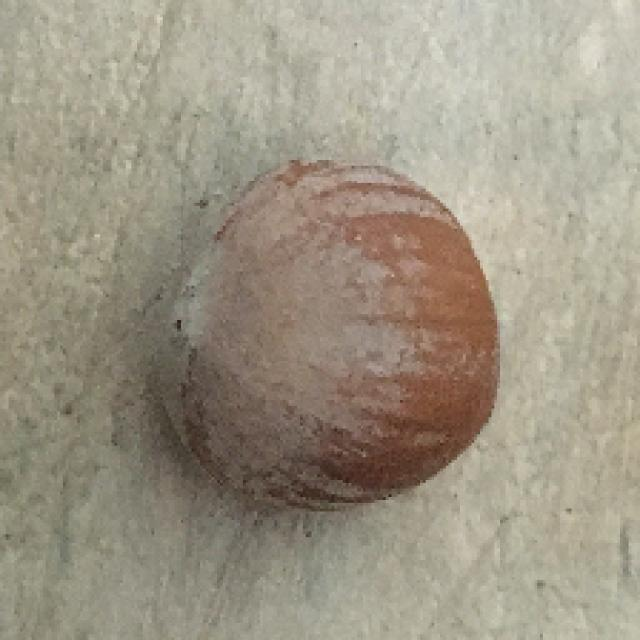qualityHazelnut: (148, 154, 507, 525)
